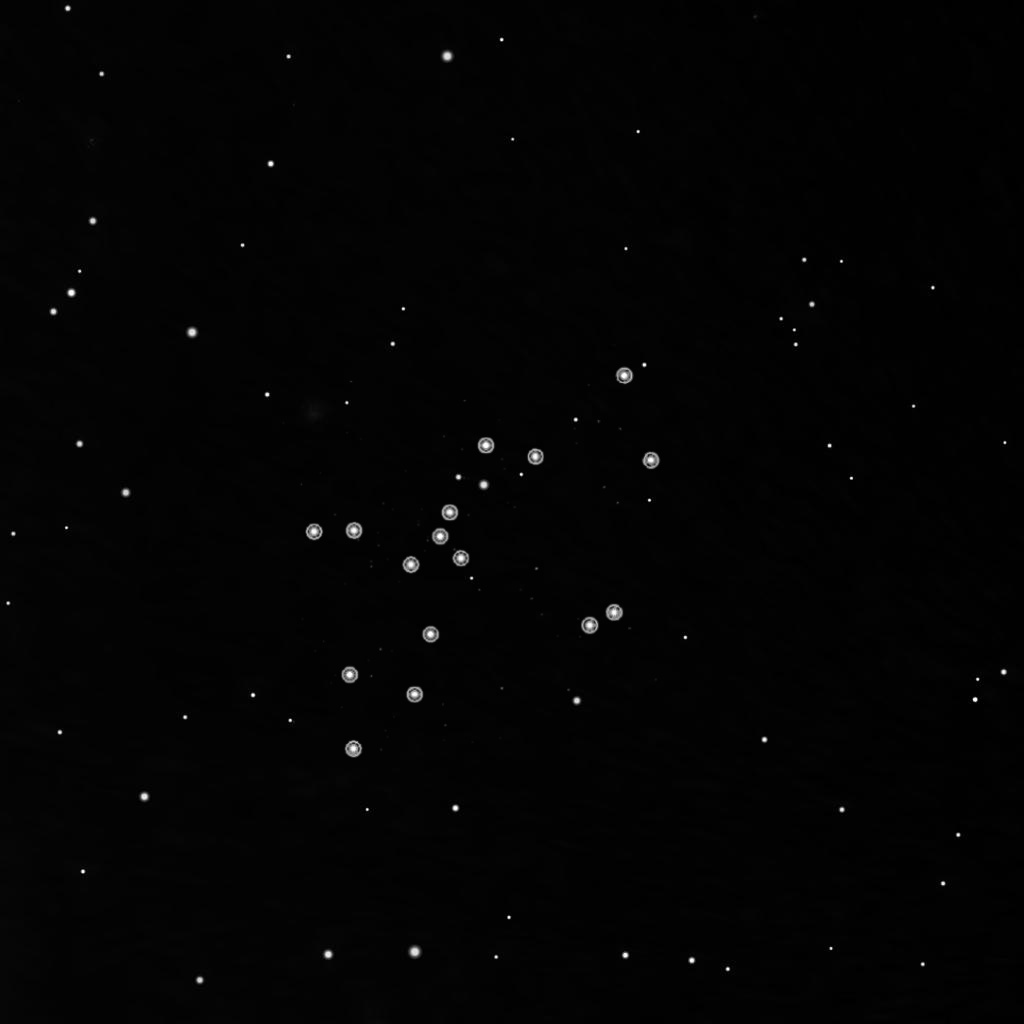canis_major: (398, 434, 548, 577)
